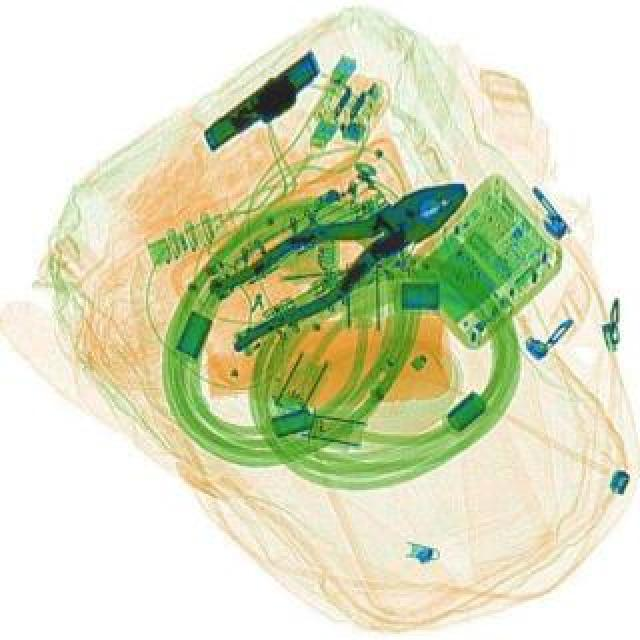gun: (196, 48, 334, 160)
wrench: (194, 150, 490, 358)
